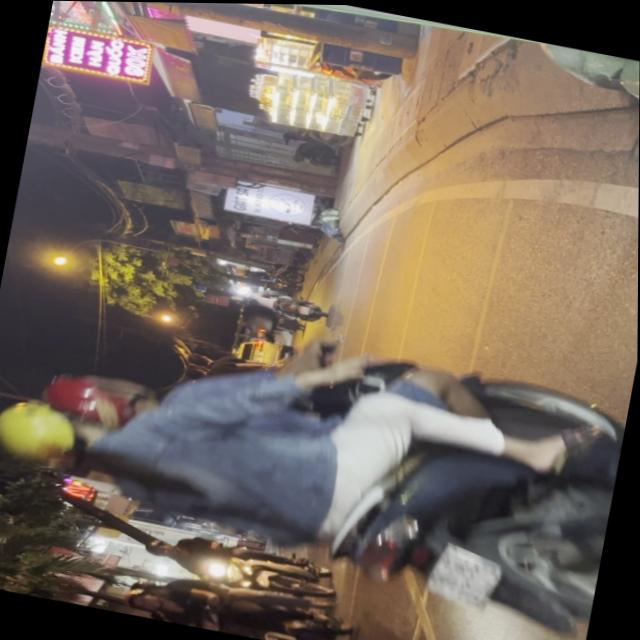helmet: (0, 393, 113, 482), (34, 363, 156, 440), (119, 585, 168, 615)
licenseplate: (0, 274, 632, 640), (115, 562, 369, 640)
nohelmet: (424, 539, 501, 612)
